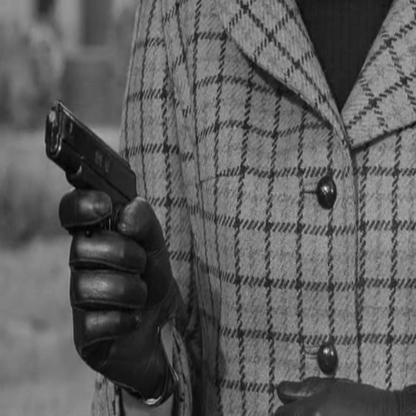gun: (35, 77, 144, 297)
